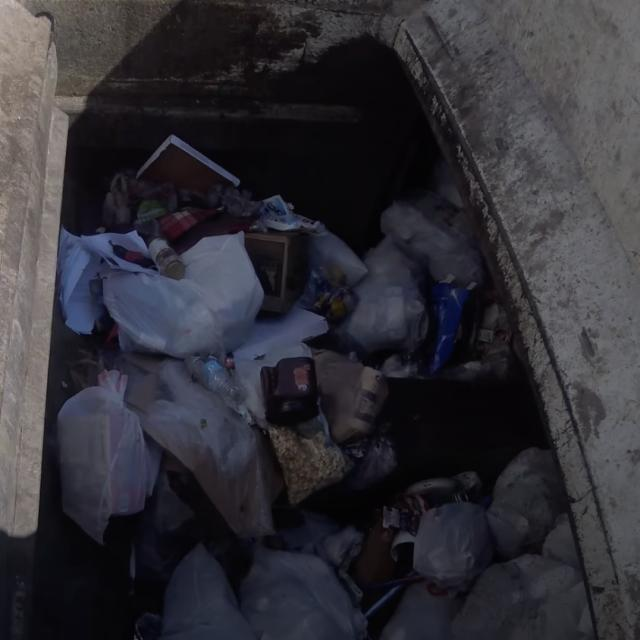bag: (54, 353, 173, 552), (210, 512, 382, 640), (333, 238, 446, 367), (395, 491, 496, 602)
furniture: (230, 220, 312, 336)
glass: (134, 217, 192, 290)
paper: (128, 118, 262, 207)
